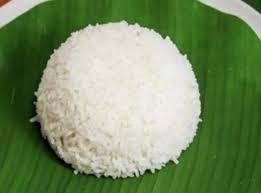Nasi putih: (34, 22, 209, 175)
